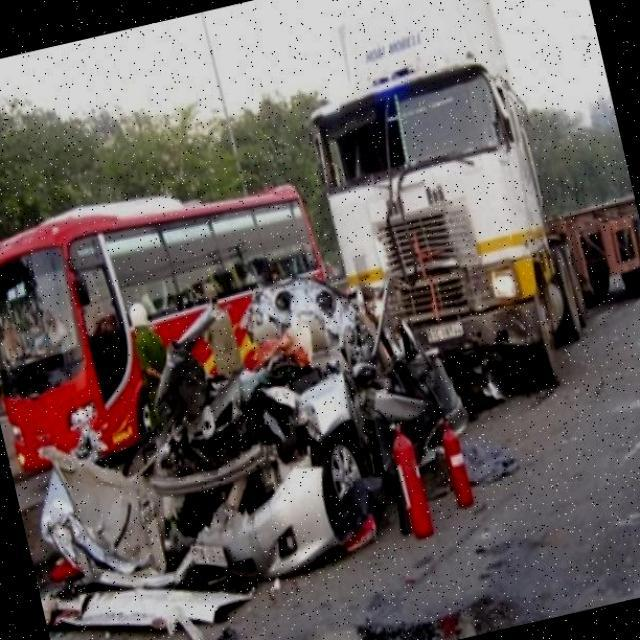accident: (0, 217, 542, 640), (291, 49, 585, 437)
